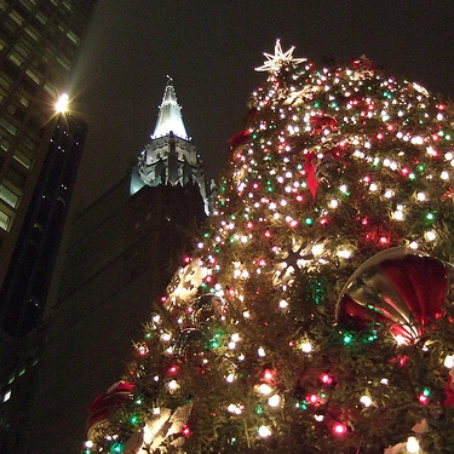building: (85, 68, 223, 454), (1, 1, 79, 440)
tree: (84, 34, 454, 449)
